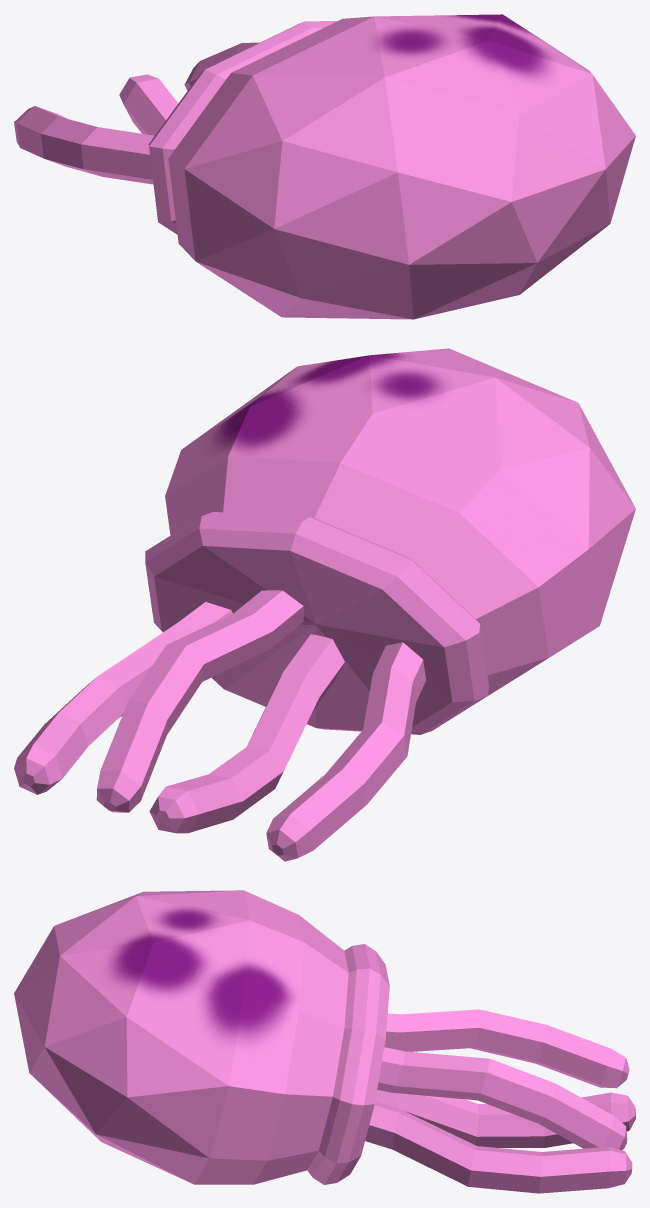
File: JellyFish_1.fbx
3 renders of one model, top to bottom at view 1: azimuth 30°, elevation 25°; view 2: azimuth 150°, elevation 25°; view 3: azimuth 270°, elevation 25°, orthographic. The views are drawn at different scales.
Parts seen in each view (by area): view 1: JellyFish_1; view 2: JellyFish_1; view 3: JellyFish_1.
Part boxes in pixels (box(x1,y1,x2,y2)): JellyFish_1: box(14, 14, 635, 319); JellyFish_1: box(14, 348, 635, 861); JellyFish_1: box(14, 890, 635, 1193).
Size of the model in its own units: 155 by 104 by 241.
